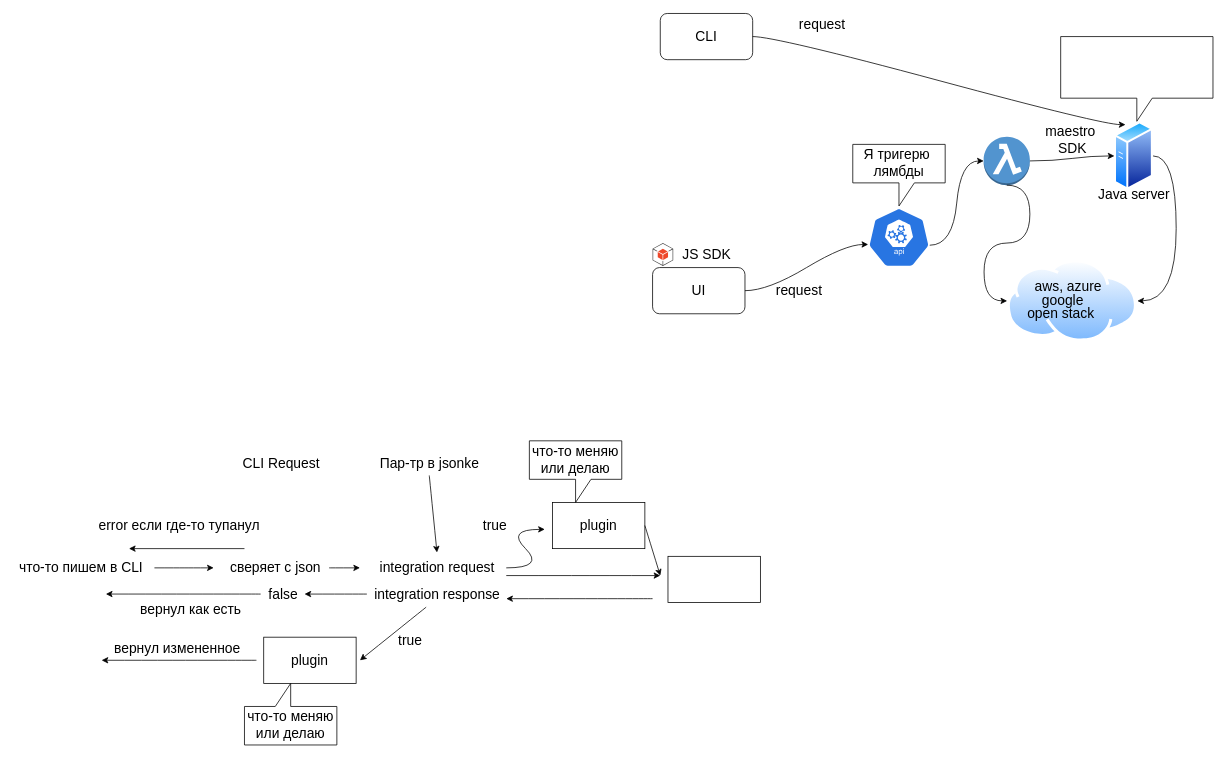
Image size: 1227x758. Some labels were removed from this diagram. The shapes that lost their labels are listed below. From the top down, each one's centre as x and y in pixels, then its label:
At [1136,78]: "Я разбираюсь там где лямбда не может".
At [713,579]: "server".
